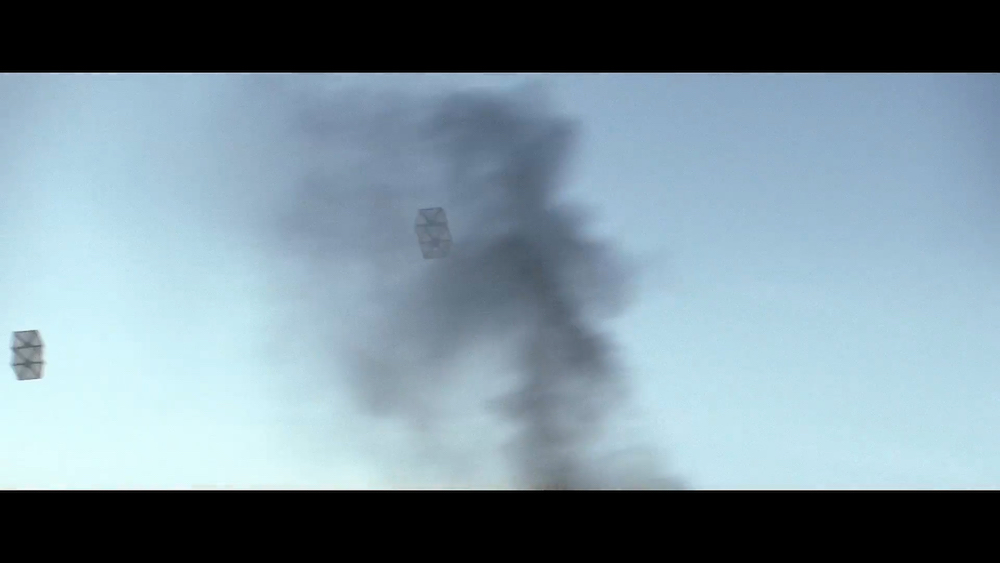Tie Fighter: (412, 208, 456, 263), (9, 331, 47, 383)
